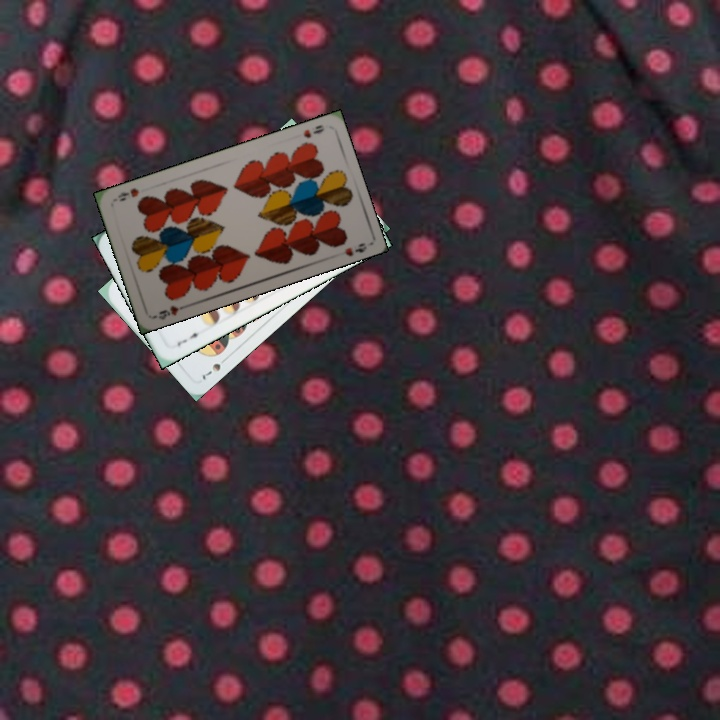E7: (173, 328, 206, 349)
H9: (155, 300, 191, 322), (299, 121, 327, 141)
S7: (198, 353, 231, 382)
